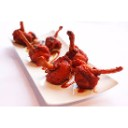chicken_lollipop: (76, 60, 123, 87), (18, 32, 52, 63), (39, 54, 72, 84), (64, 29, 88, 68), (12, 19, 36, 46), (47, 23, 65, 49)
